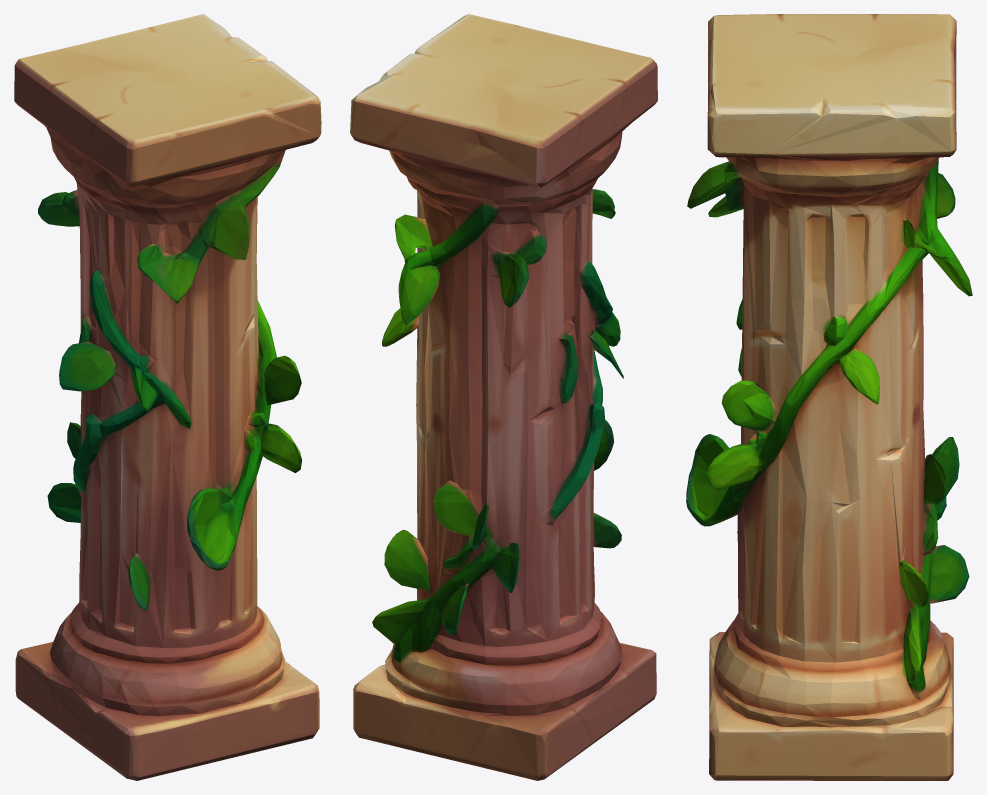
File: forest_column.glb
3 renders of one model, left to right at view 1: azimuth 30°, elevation 25°; view 2: azimuth 150°, elevation 25°; view 3: azimuth 270°, elevation 25°, orthographic. The views are drawn at different scales.
Parts seen in each view (by area): view 1: world; view 2: world; view 3: world.
Boxes of the visible parts, x1,y1,x2,y2 form: world: (14, 14, 321, 780); world: (350, 14, 657, 780); world: (686, 14, 972, 780).
Bounding box in the file's own units: 0.353 × 1 × 0.3863.
1 material, 1 textured.
